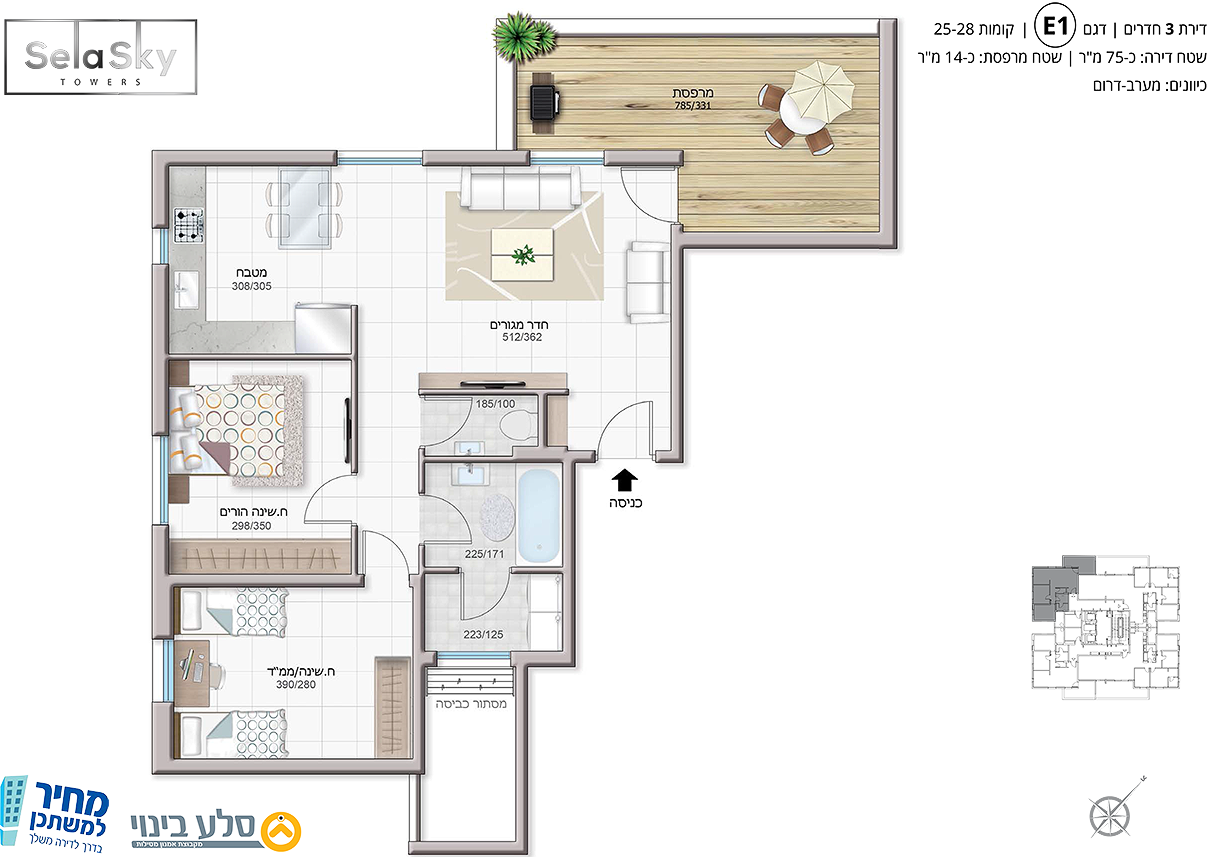door: (591, 394, 664, 449), (451, 577, 513, 625), (424, 395, 478, 449), (298, 474, 350, 527), (425, 494, 477, 547), (358, 522, 412, 571)
wall: (153, 758, 423, 773), (671, 232, 896, 249), (152, 267, 169, 435), (153, 151, 337, 165)
window: (152, 434, 170, 527), (337, 150, 423, 165), (153, 637, 172, 703), (530, 151, 606, 167), (434, 651, 510, 667), (152, 227, 169, 266)
